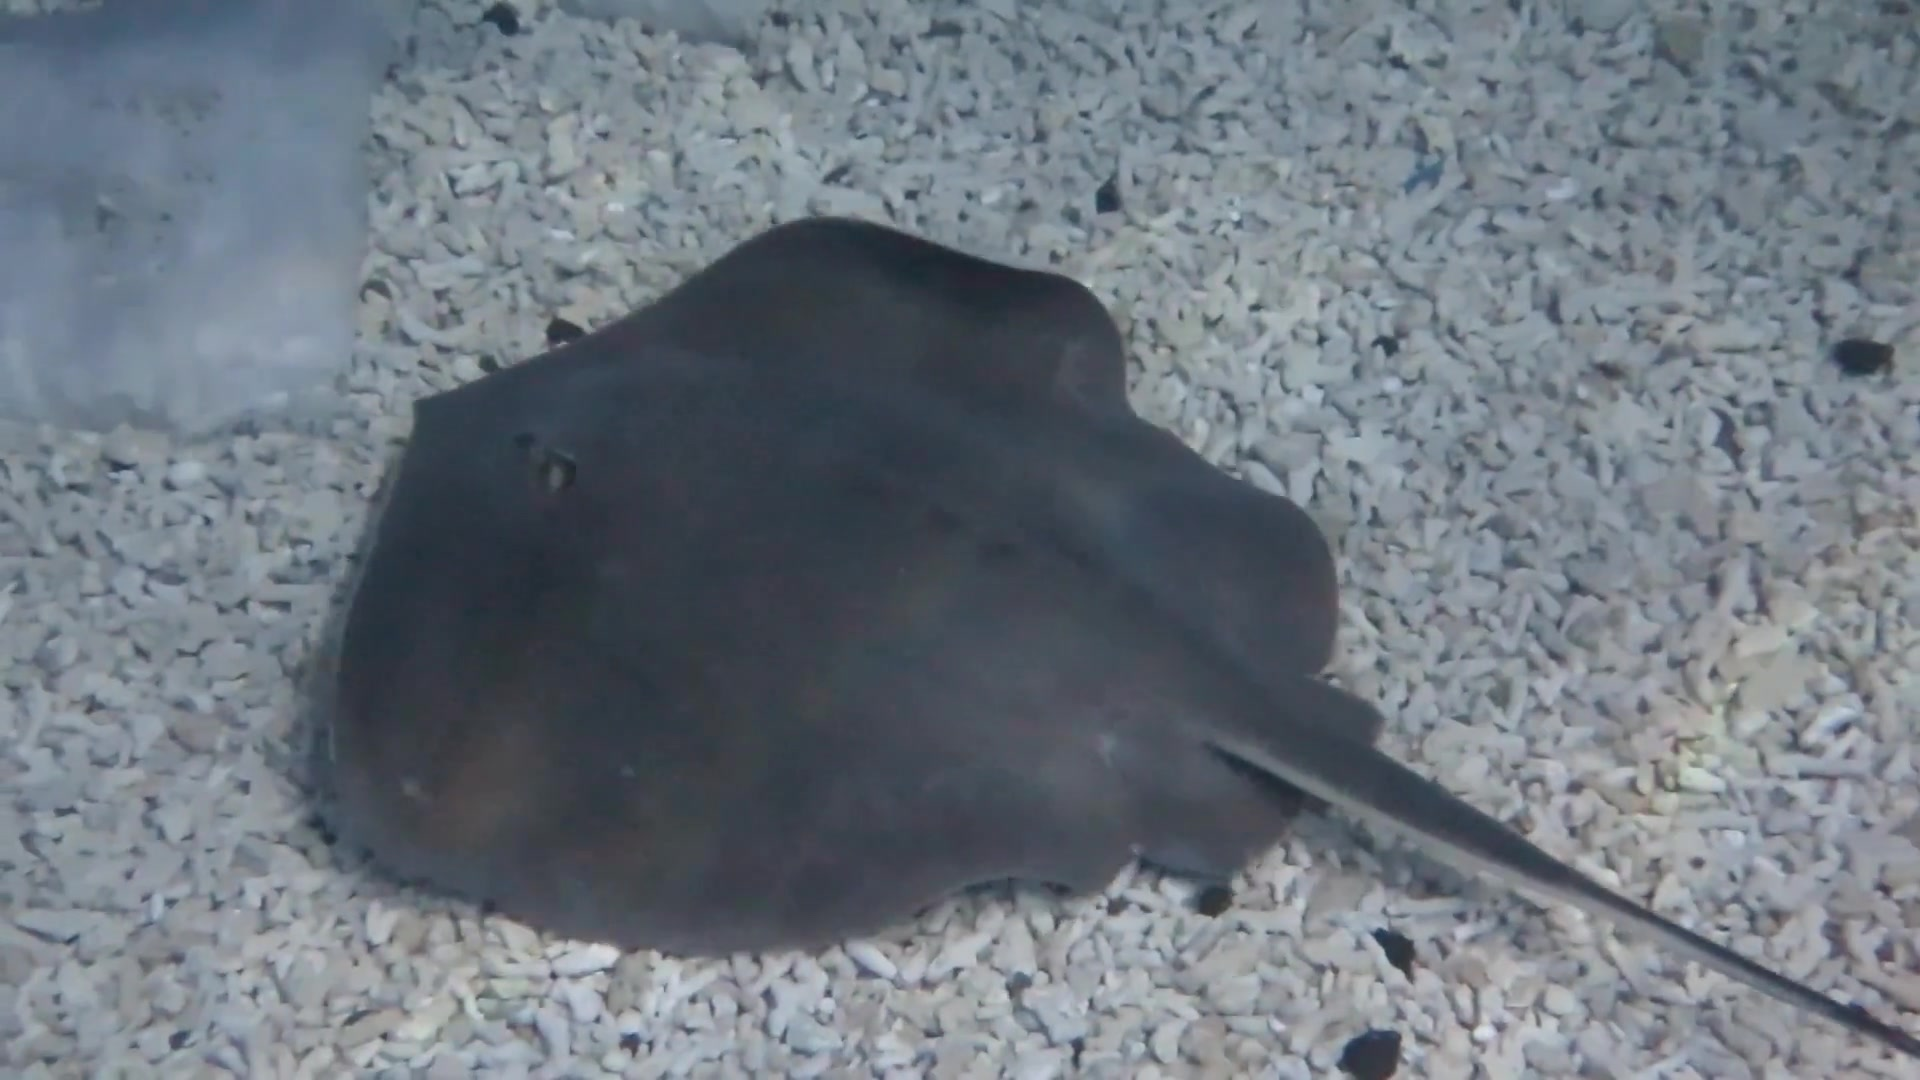Dasyatis bennetti: (252, 152, 1501, 993)
